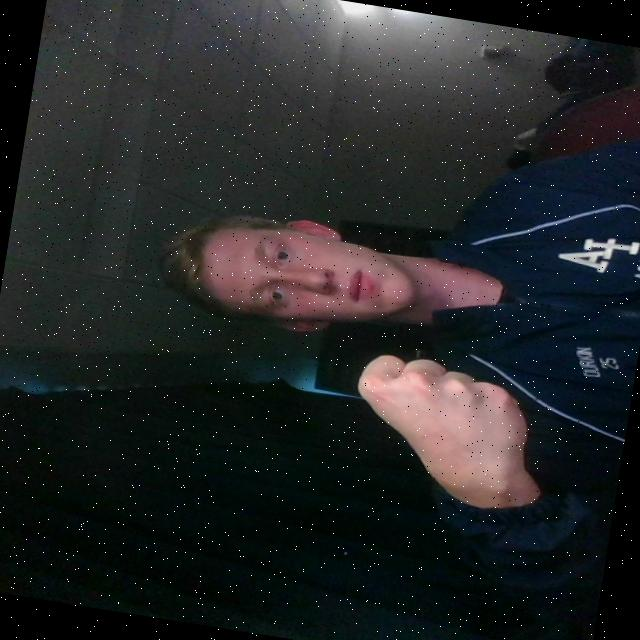rock: (327, 341, 566, 490)
